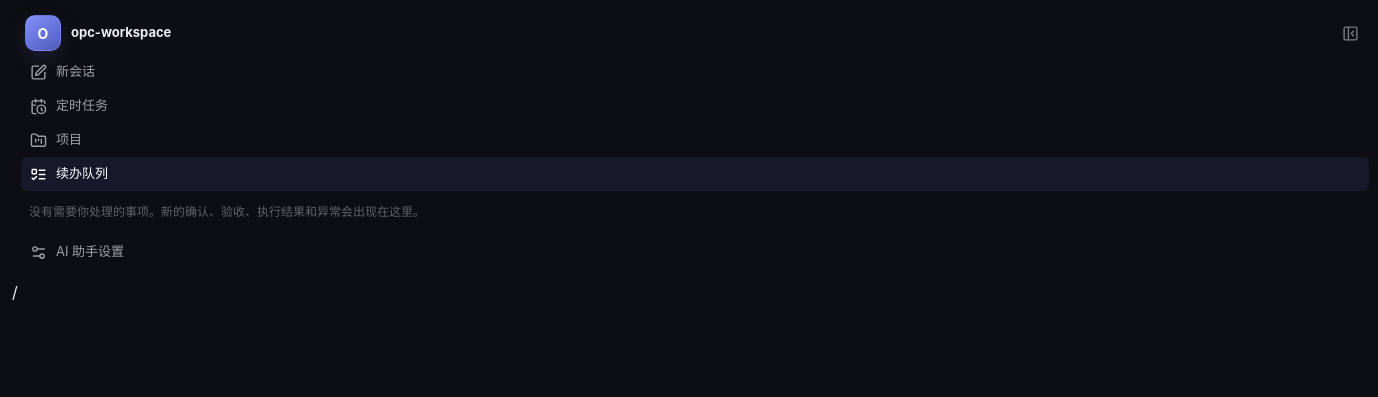
Test: AiSessionRail › honors the workspace queue request when the rail mounts and preserves it across remounts
This screenshot has width=1378, height=397.
Expected: the text "没有需要你处理的事项。新的确认、验收、执行结果和异常会出现在这里。" is shown, [29,204,425,219]
Click the button "续办队列". click: x=82, y=173
box: [21,157,1369,191]
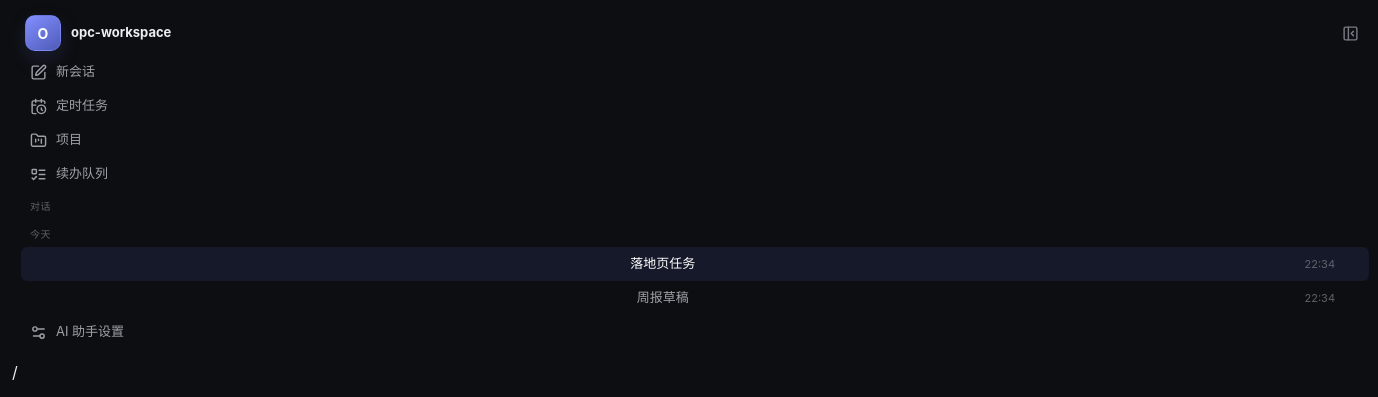
Result: the text "没有需要你处理的事项" is gone
